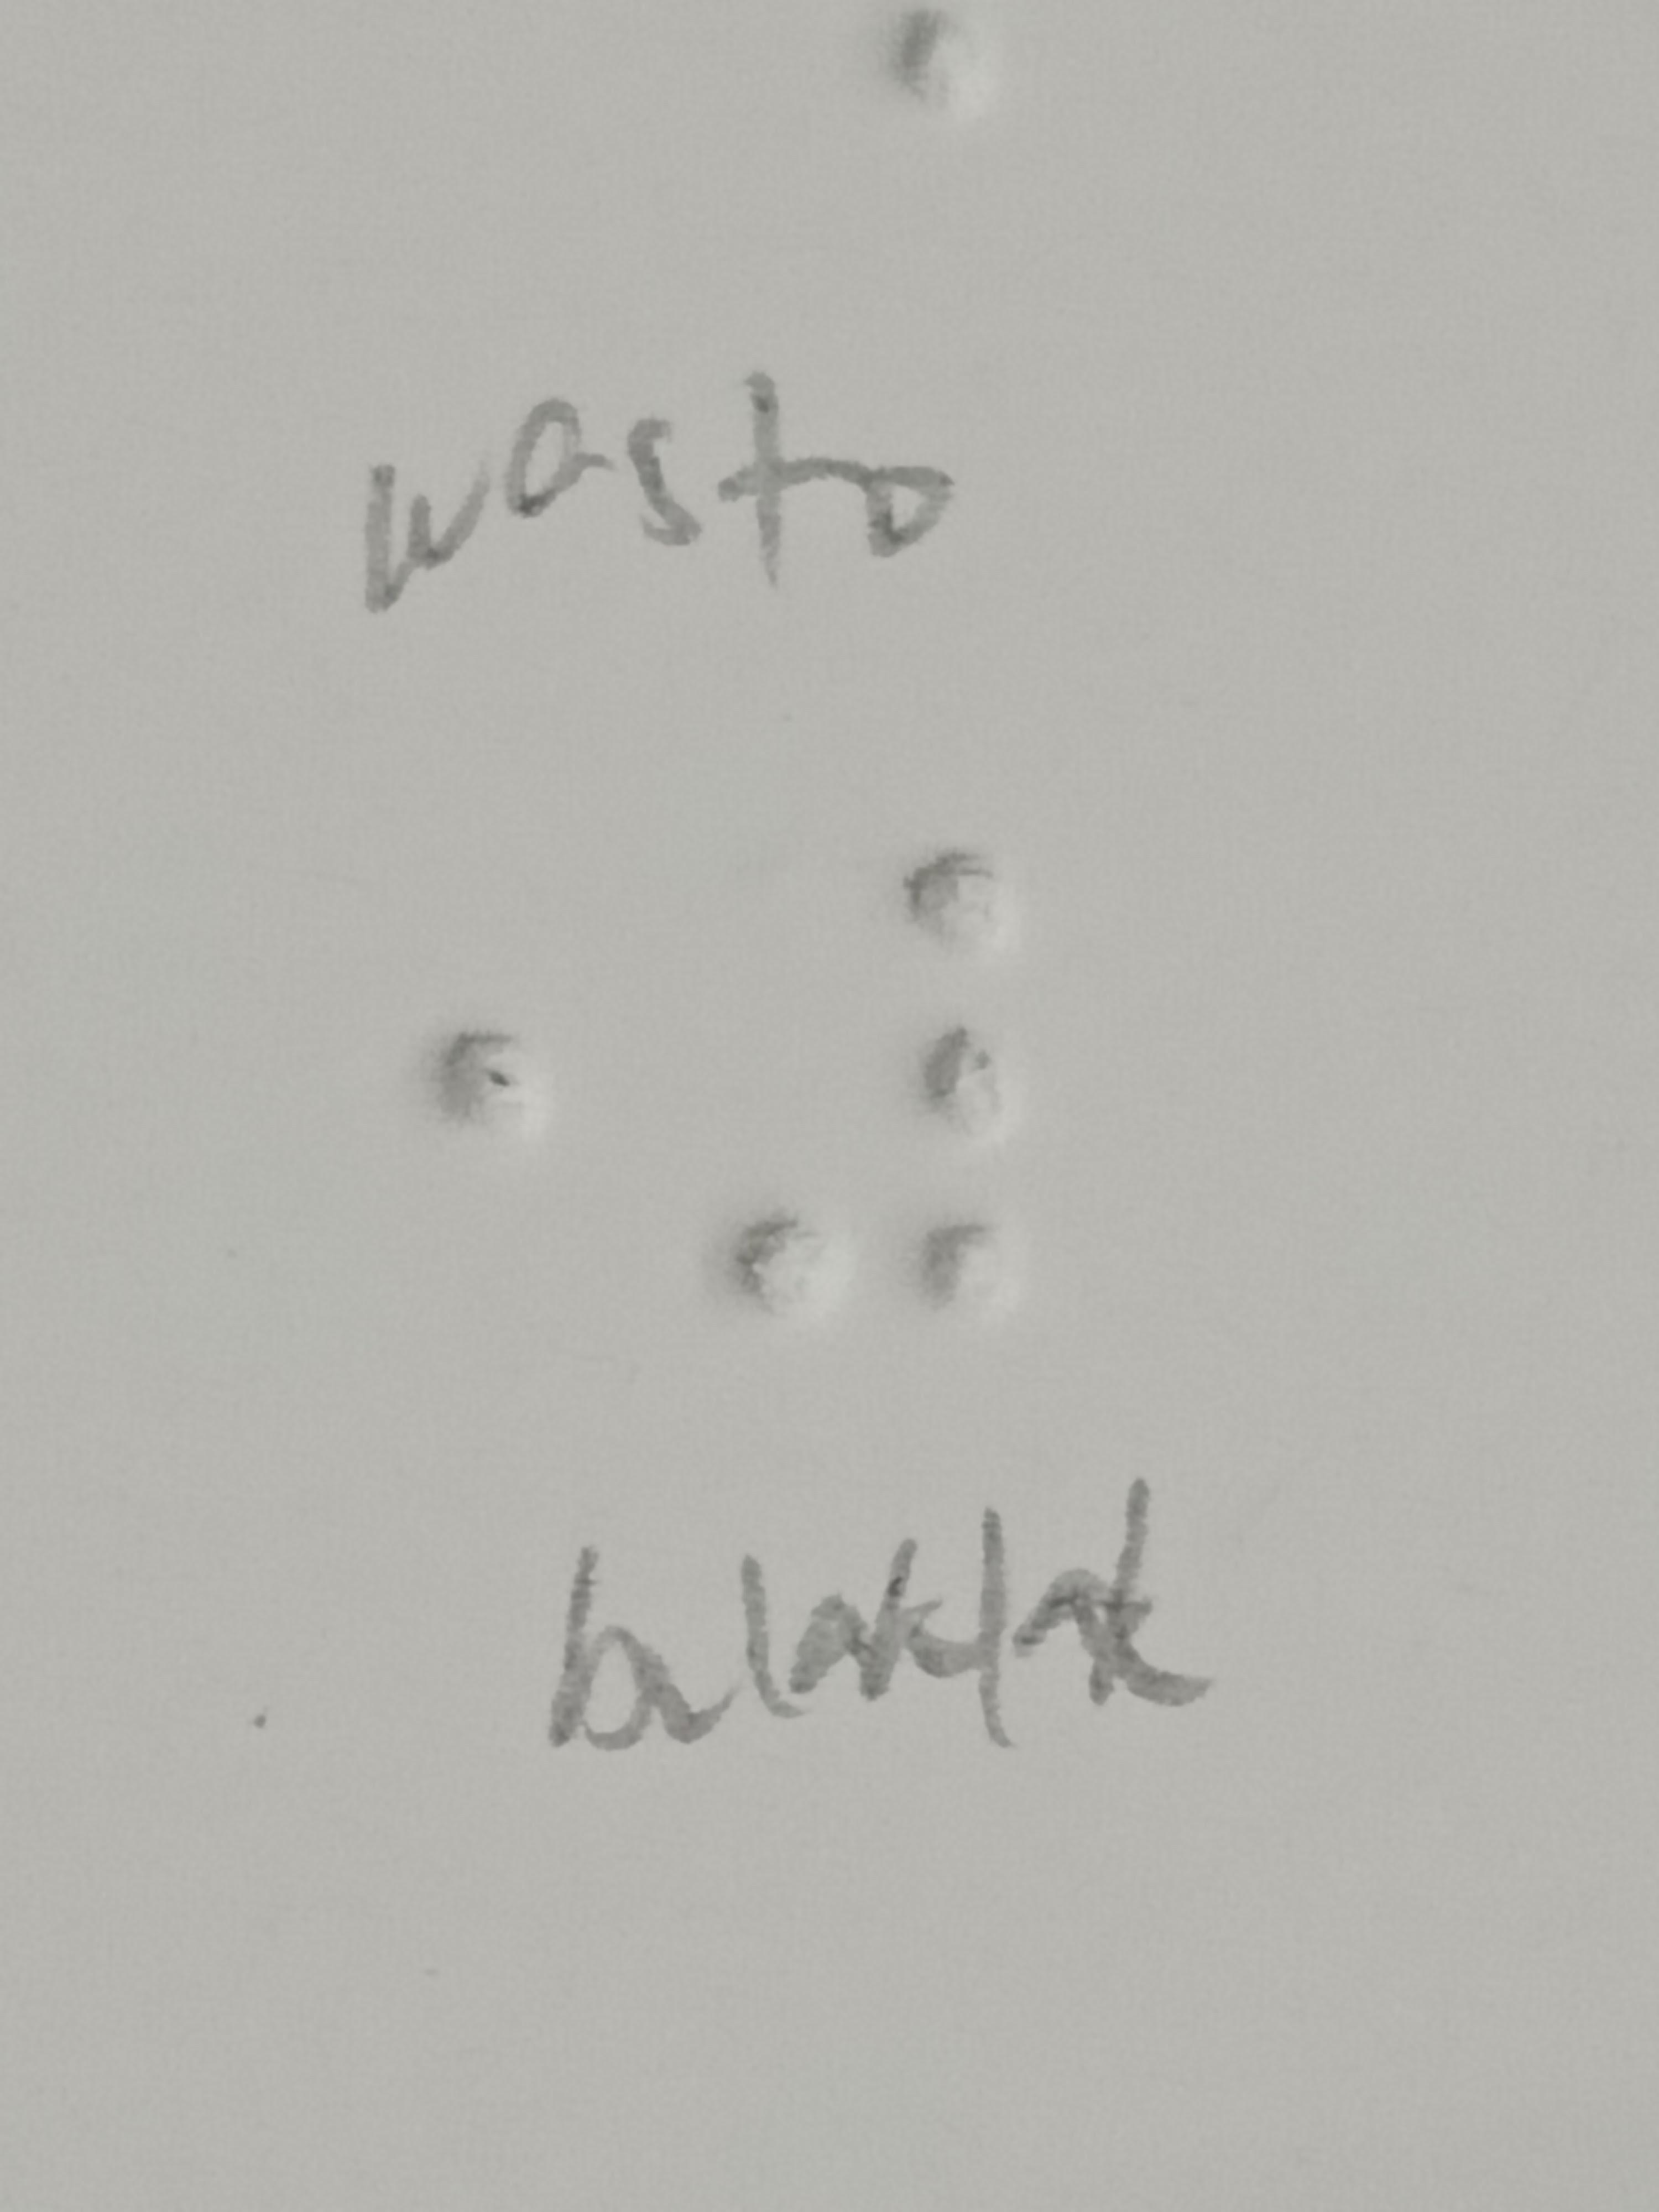dot_5: (275, 852, 554, 1334)
two_cell_non_alphabet_bulaklak: (732, 846, 1009, 1331)
